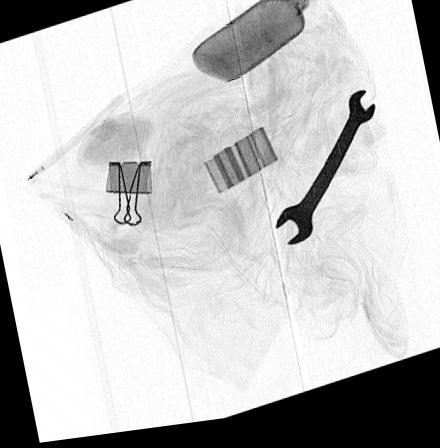Wrench: (275, 99, 374, 254)
